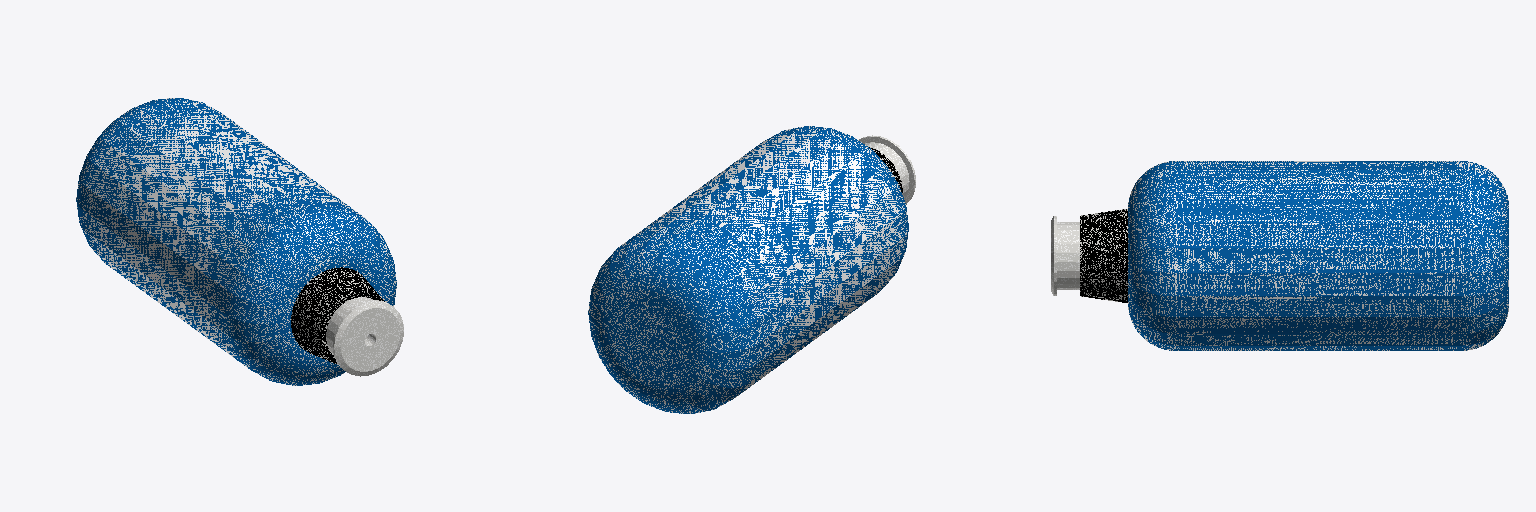
Rendered from model_align.obj.
The picture shows the model from 3 angles: view 1: azimuth 30°, elevation 25°; view 2: azimuth 150°, elevation 25°; view 3: azimuth 270°, elevation 25°; orthographic projection.
Size of the model in its own units: 0.0597 by 0.0597 by 0.1436.